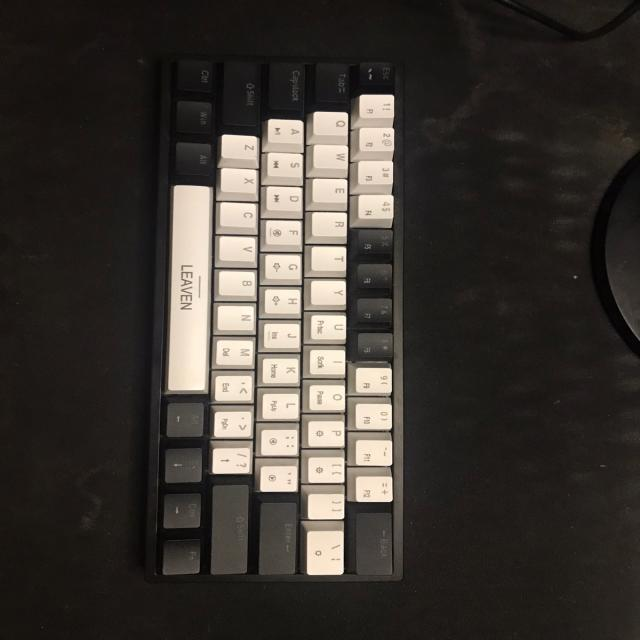-mouse-: (148, 51, 405, 583)
